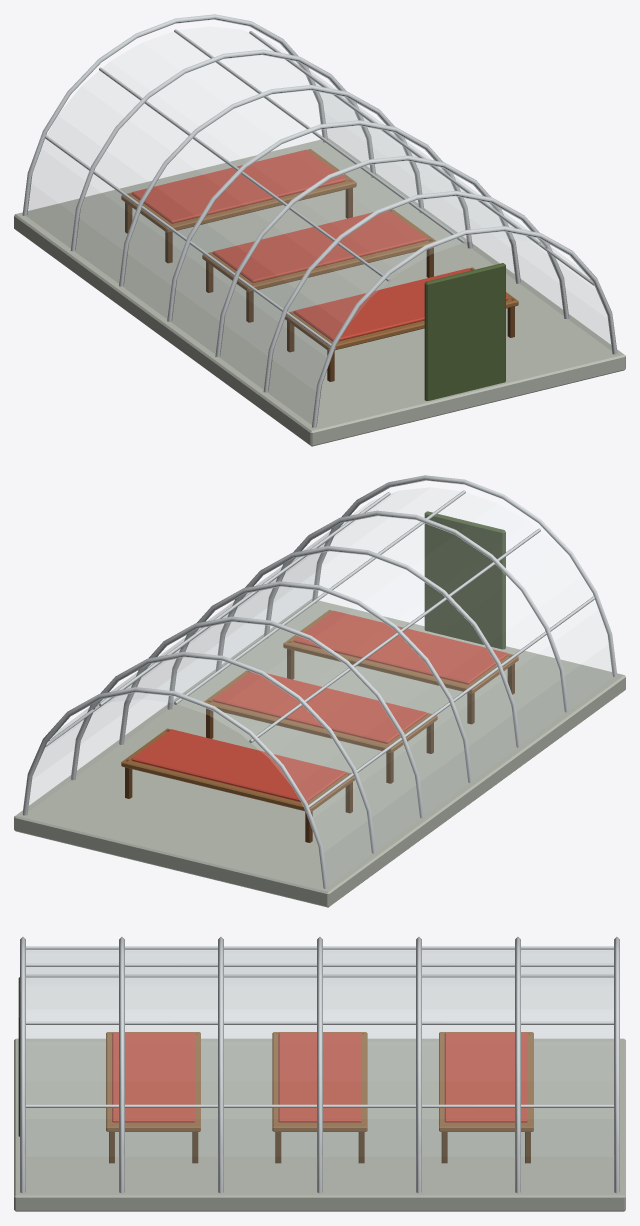
The model's file is drying_house.glb.
The picture shows the model from 3 angles, top to bottom: view 1: azimuth 30°, elevation 25°; view 2: azimuth 150°, elevation 25°; view 3: azimuth 270°, elevation 25°; orthographic projection. The views are drawn at different scales.
Parts seen in each view (by area): view 1: DryingHouse; view 2: DryingHouse; view 3: DryingHouse.
Part boxes in pixels (<box>): DryingHouse: <box>14,14,625,446</box>; DryingHouse: <box>14,475,625,907</box>; DryingHouse: <box>14,937,625,1211</box>.
Size of the model in its own units: 6.3 by 3.35 by 10.3.
